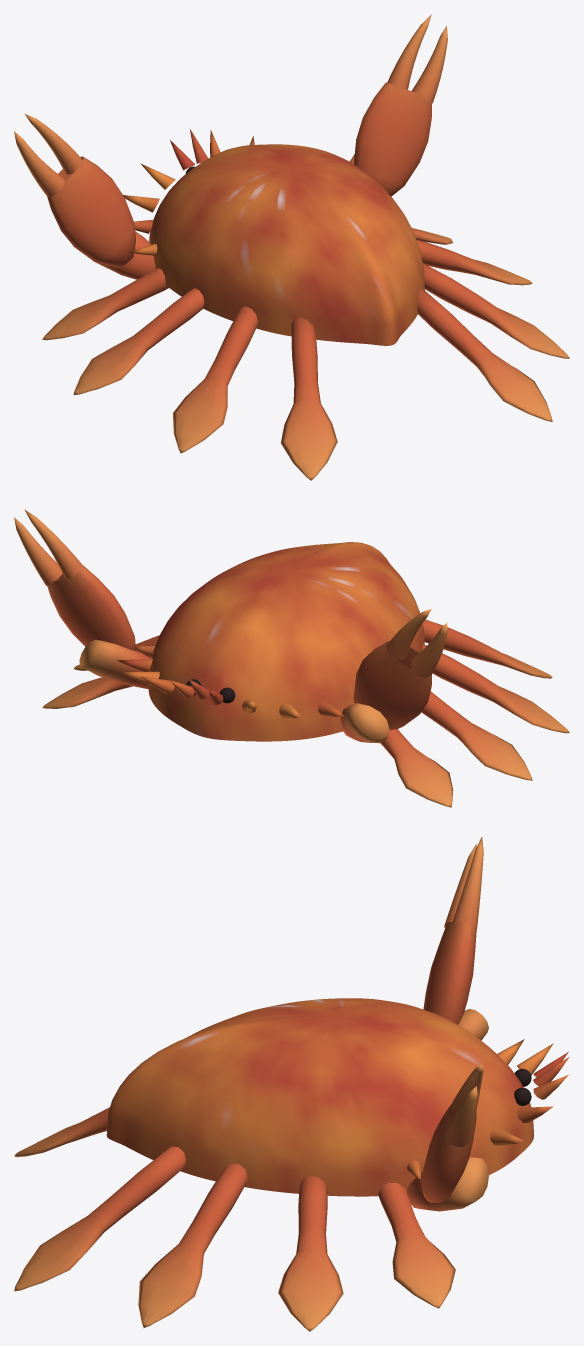
Rendered from alavar_curacha.glb.
3 renders of one model, top to bottom at view 1: azimuth 30°, elevation 25°; view 2: azimuth 150°, elevation 25°; view 3: azimuth 270°, elevation 25°, orthographic. The views are drawn at different scales.
Parts seen in each view (by area): view 1: Carapace, Cheliped_L, Cheliped_R, Leg_L_L4, Leg_L_L3, Leg_R_L4, Leg_L_L2, Leg_R_L3, Leg_L_L1, Leg_R_L2, FrontSpines, Arm_L; view 2: Carapace, Cheliped_R, Cheliped_L, Leg_L_L2, Leg_L_L3, Leg_L_L1, FrontSpines, Arm_R, Leg_L_L4, Arm_L, Leg_R_L1; view 3: Carapace, Leg_R_L3, Leg_R_L2, Leg_R_L4, Cheliped_L, Leg_R_L1, Cheliped_R, FrontSpines, Arm_R, Leg_L_L4.
Boxes of the visible parts, box(x1,y1,x2,y2) form: Carapace: box(149, 144, 424, 345); Cheliped_L: box(14, 114, 135, 267); Cheliped_R: box(354, 14, 447, 196); Leg_L_L4: box(281, 317, 337, 480); Leg_L_L3: box(172, 306, 257, 453); Leg_R_L4: box(417, 288, 552, 421); Leg_L_L2: box(73, 288, 204, 395); Leg_R_L3: box(423, 263, 569, 358); Leg_L_L1: box(42, 268, 168, 340); Leg_R_L2: box(416, 240, 532, 285); FrontSpines: box(123, 129, 254, 255); Arm_L: box(92, 231, 155, 279); Carapace: box(148, 542, 424, 741); Cheliped_R: box(14, 509, 135, 650); Cheliped_L: box(353, 609, 447, 730); Leg_L_L2: box(421, 691, 532, 780); Leg_L_L3: box(422, 644, 569, 733); Leg_L_L1: box(380, 729, 453, 807); FrontSpines: box(116, 646, 343, 718); Arm_R: box(79, 639, 151, 689); Leg_L_L4: box(423, 619, 552, 678); Arm_L: box(340, 703, 389, 743); Leg_R_L1: box(42, 657, 151, 708); Carapace: box(106, 998, 534, 1196); Leg_R_L3: box(138, 1163, 247, 1327); Leg_R_L2: box(278, 1176, 343, 1331); Leg_R_L4: box(14, 1146, 185, 1291); Cheliped_L: box(423, 837, 483, 1024); Leg_R_L1: box(378, 1182, 455, 1308); Cheliped_R: box(421, 1064, 483, 1202); FrontSpines: box(407, 1036, 569, 1179); Arm_R: box(406, 1157, 488, 1211); Leg_L_L4: box(14, 1107, 109, 1157).
Bounding box in the file's own units: 2.32 × 1.15 × 2.12.
